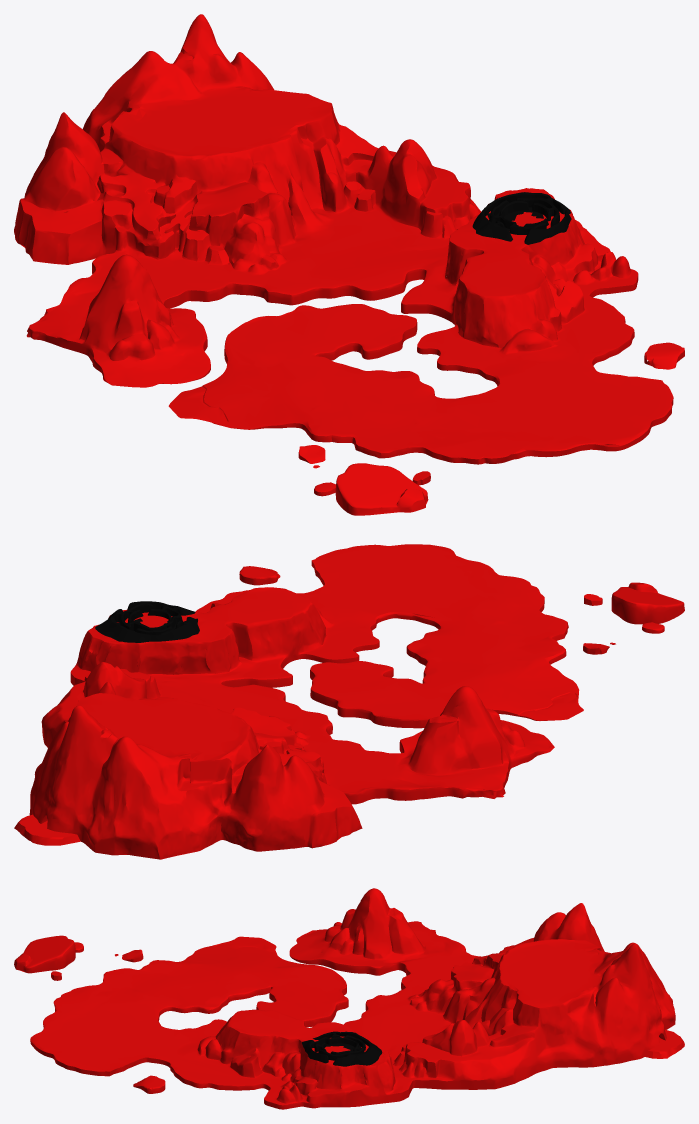
The model's file is TheBerg_V_02.glb.
3 views of the same model, one above another, from view 1: azimuth 30°, elevation 25°; view 2: azimuth 150°, elevation 25°; view 3: azimuth 270°, elevation 25° (orthographic). The views are drawn at different scales.
Parts seen in each view (by area): view 1: Berg; view 2: Berg; view 3: Berg.
Boxes of the visible parts, bbox=[...] form: Berg: bbox=[14, 14, 684, 515]; Berg: bbox=[14, 544, 684, 859]; Berg: bbox=[14, 888, 684, 1109].
Size of the model in its own units: 321 by 78.86 by 494.
